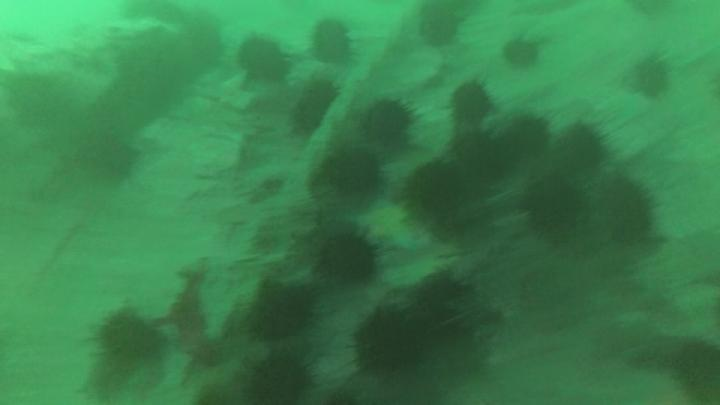echinus: (581, 175, 656, 238), (404, 161, 468, 226), (354, 316, 423, 374), (525, 178, 584, 241), (100, 312, 166, 366), (252, 286, 316, 340), (248, 356, 312, 405), (315, 234, 378, 283), (414, 274, 465, 334), (327, 149, 381, 199), (445, 133, 500, 181), (559, 124, 607, 174), (293, 81, 339, 127), (237, 41, 287, 83), (361, 102, 412, 143), (505, 117, 553, 157), (452, 82, 492, 128), (421, 8, 460, 49), (313, 21, 350, 63), (638, 59, 671, 100), (504, 39, 537, 69)
starfish: (357, 200, 420, 254)
